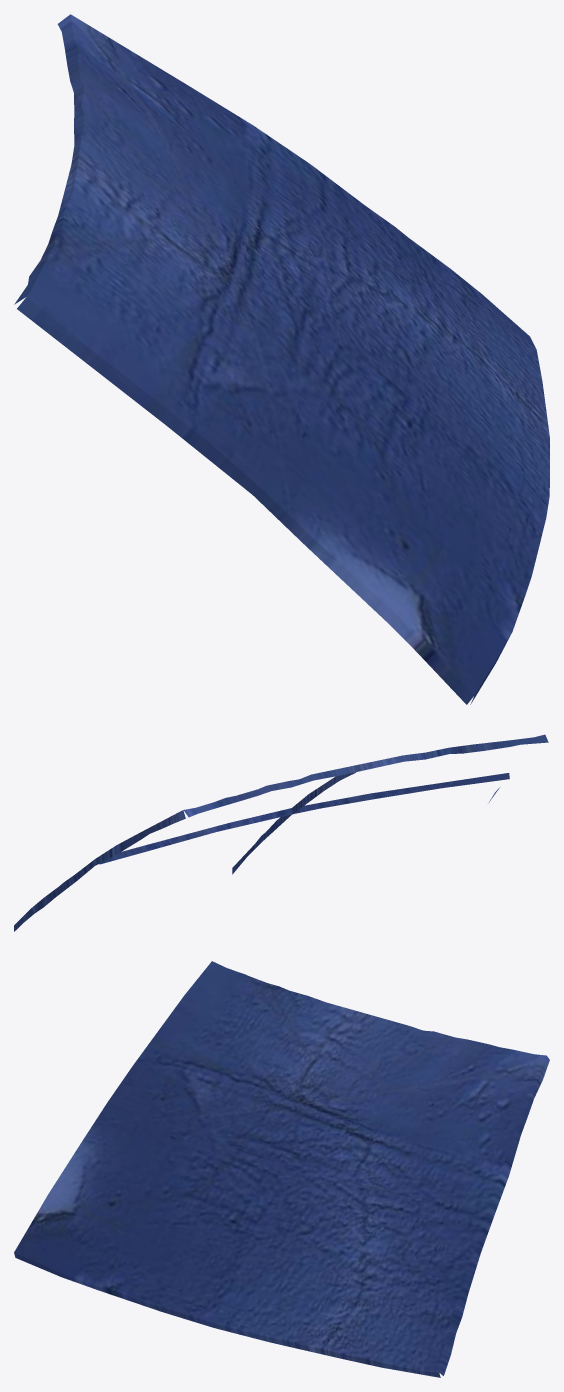
3 views of the same model, one above another, from view 1: azimuth 30°, elevation 25°; view 2: azimuth 150°, elevation 25°; view 3: azimuth 270°, elevation 25° (orthographic). The views are drawn at different scales.
Bounding box in the file's own units: 1680867 × 822445 × 1850771.
Materials: 1 (1 with a texture image).
